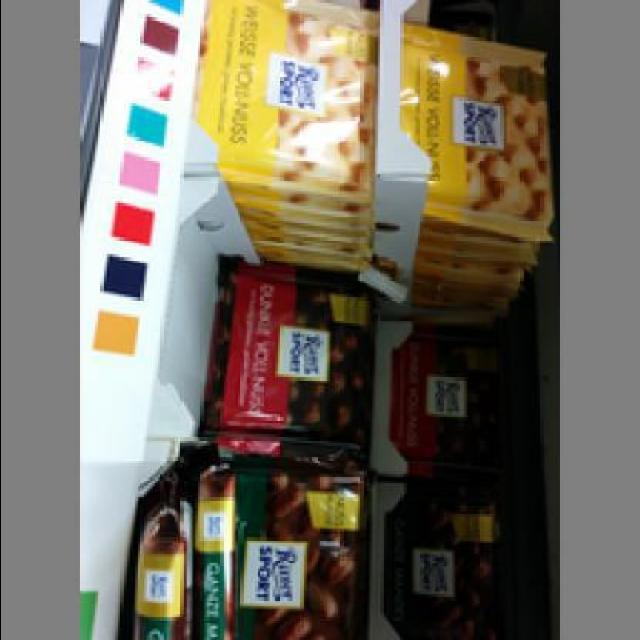Chocolate bar: (200, 3, 380, 191), (397, 11, 552, 228), (206, 454, 377, 637), (206, 263, 377, 443)
